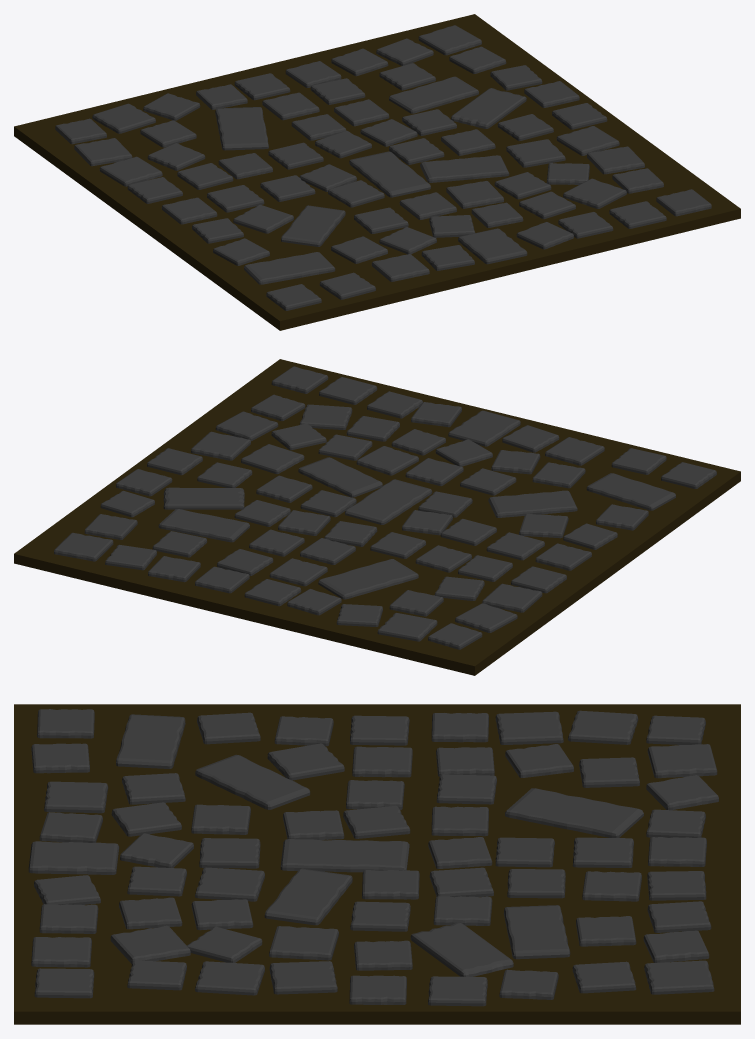
File: CobbleFloor.obj
3 renders of one model, top to bottom at view 1: azimuth 30°, elevation 25°; view 2: azimuth 150°, elevation 25°; view 3: azimuth 270°, elevation 25°, orthographic. The views are drawn at different scales.
Parts seen in each view (by area): view 1: Cube.022, Cube.037, Cube.040, Cube.030, Cube.081, Cube.033, Cube.038, Cube.044, Cube.088, Cube.072, Cube.042, Cube.032 (+60 smaller); view 2: Cube.022, Cube.040, Cube.037, Cube.033, Cube.081, Cube.044, Cube.030, Cube.038, Cube.088, Cube.070, Cube.042, Cube.032 (+60 smaller); view 3: Cube.022, Cube.040, Cube.037, Cube.044, Cube.038, Cube.030, Cube.081, Cube.033, Cube.088, Cube.032, Cube.060, Cube.042 (+60 smaller).
Part boxes in pixels (x1,y1,x2,y2): Cube.022: (14, 14, 740, 330); Cube.037: (349, 151, 430, 197); Cube.040: (215, 107, 268, 150); Cube.030: (420, 155, 509, 182); Cube.081: (244, 252, 335, 284); Cube.033: (389, 76, 478, 113); Cube.038: (451, 88, 526, 128); Cube.044: (281, 205, 345, 246); Cube.088: (458, 228, 527, 264); Cube.072: (563, 178, 626, 208); Cube.042: (92, 103, 155, 133); Cube.032: (418, 25, 481, 55); Cube.022: (14, 359, 740, 675); Cube.040: (318, 559, 418, 599); Cube.037: (345, 479, 432, 524); Cube.033: (158, 509, 249, 542); Cube.081: (586, 473, 675, 510); Cube.044: (488, 490, 577, 517); Cube.030: (298, 457, 382, 497); Cube.038: (163, 487, 244, 509); Cube.088: (448, 410, 520, 446); Cube.070: (241, 444, 304, 474); Cube.042: (377, 613, 437, 641); Cube.032: (54, 532, 113, 561); Cube.022: (14, 704, 740, 1024); Cube.040: (505, 788, 643, 837); Cube.037: (280, 839, 409, 872); Cube.044: (195, 754, 310, 809); Cube.038: (410, 922, 513, 976); Cube.030: (264, 868, 352, 925); Cube.081: (116, 714, 185, 768); Cube.033: (503, 905, 570, 959); Cube.088: (28, 841, 119, 874); Cube.032: (644, 960, 714, 994); Cube.060: (269, 961, 337, 994); Cube.042: (647, 744, 717, 778).
Bounding box in the file's own units: 10 × 0.2934 × 10.
